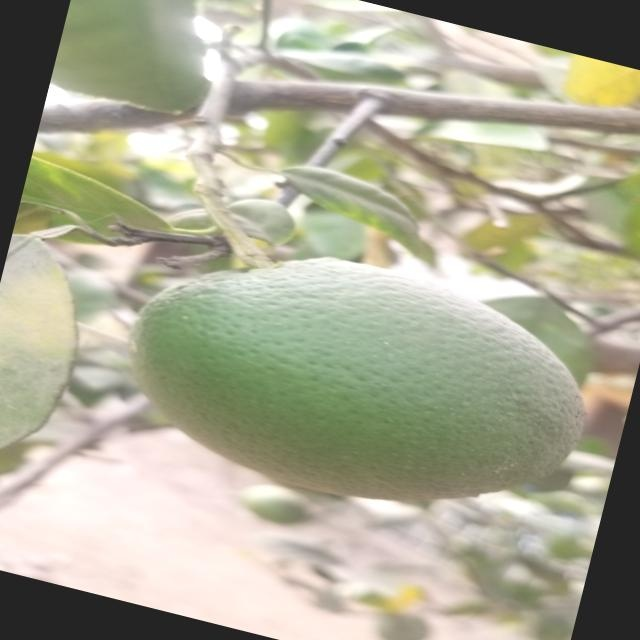agrume: (99, 213, 608, 551)
